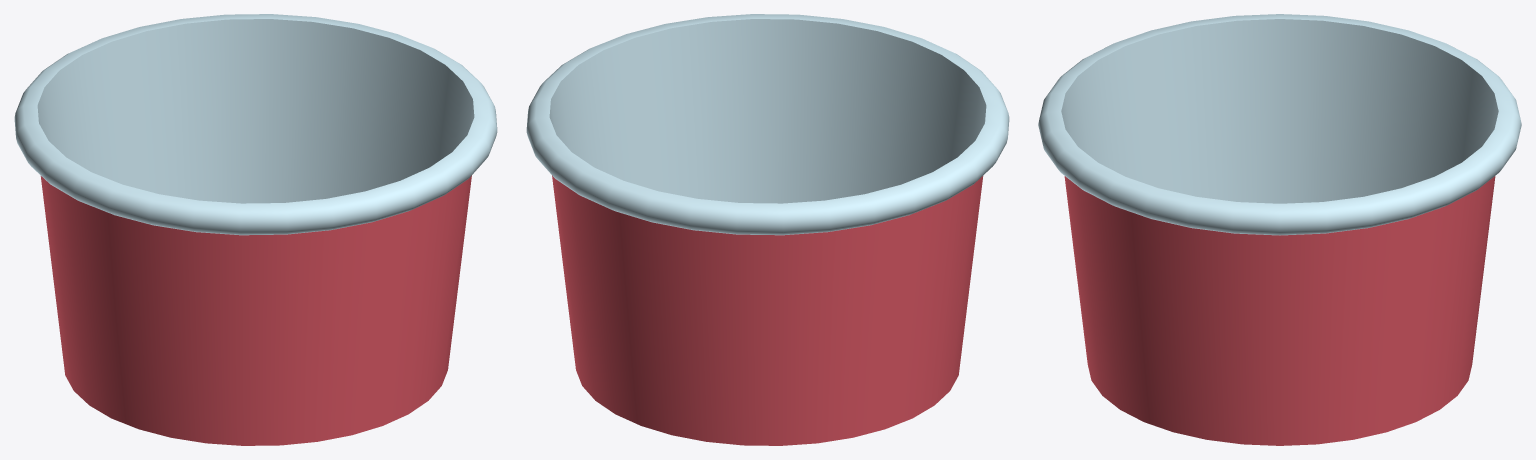
The model's file is Cup Ice Cream C.fbx.
3 views of the same model, side by side, from view 1: azimuth 30°, elevation 25°; view 2: azimuth 150°, elevation 25°; view 3: azimuth 270°, elevation 25° (orthographic).
Visible parts, largest first — view 1: Cup Ice Cream C; view 2: Cup Ice Cream C; view 3: Cup Ice Cream C.
Part boxes in pixels (<box>): Cup Ice Cream C: <box>14,14,497,445</box>; Cup Ice Cream C: <box>526,14,1009,445</box>; Cup Ice Cream C: <box>1038,14,1521,445</box>.
Size of the model in its own units: 0.7274 by 0.4205 by 0.7274.
